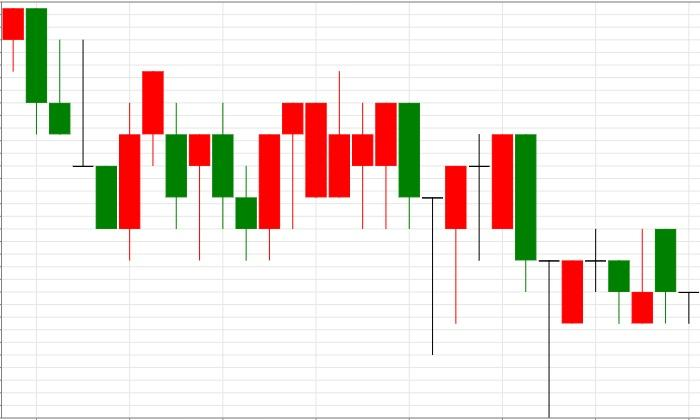bullish_engulfing_rise: (2, 7, 141, 261)
